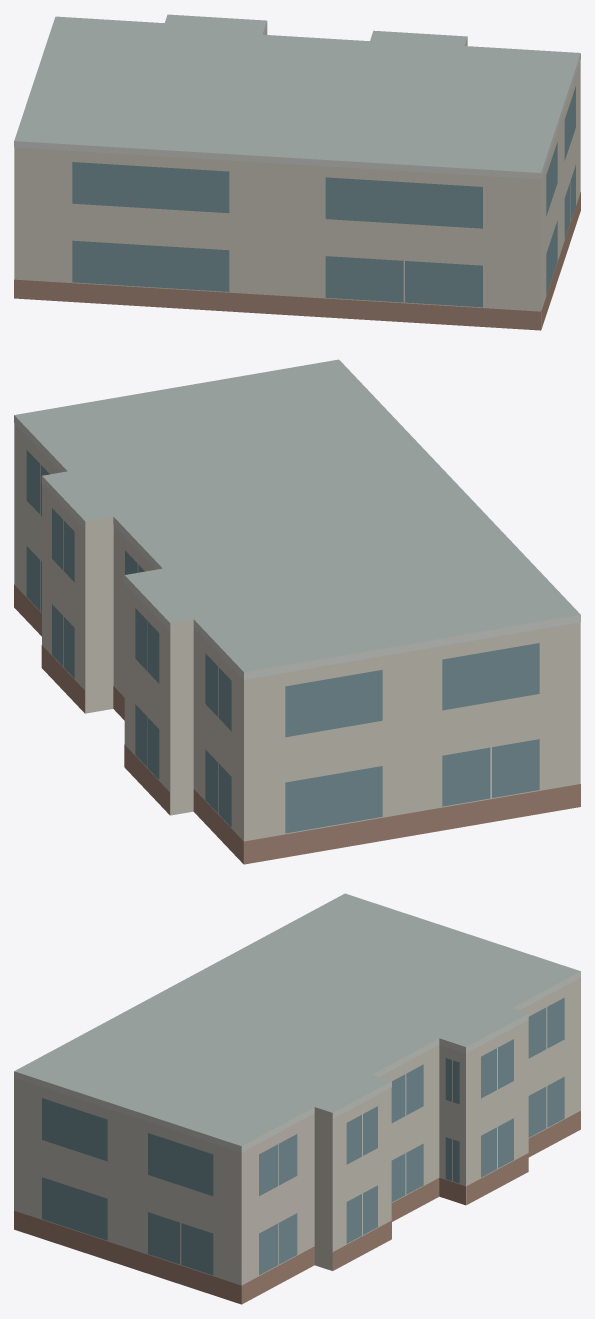
Rendered from survey-upis-32807838.glb.
3 views of the same model, one above another, from view 1: azimuth 30°, elevation 25°; view 2: azimuth 150°, elevation 25°; view 3: azimuth 270°, elevation 25° (orthographic). The views are drawn at different scales.
Visible parts, largest first — view 1: survey-upis-32807838.tmp; view 2: survey-upis-32807838.tmp; view 3: survey-upis-32807838.tmp.
Part boxes in pixels (box(x1,y1,x2,y2)): survey-upis-32807838.tmp: box(14, 14, 580, 330); survey-upis-32807838.tmp: box(14, 359, 580, 864); survey-upis-32807838.tmp: box(14, 893, 580, 1304).
Size of the model in its own units: 20.91 by 6.1 by 19.8.
